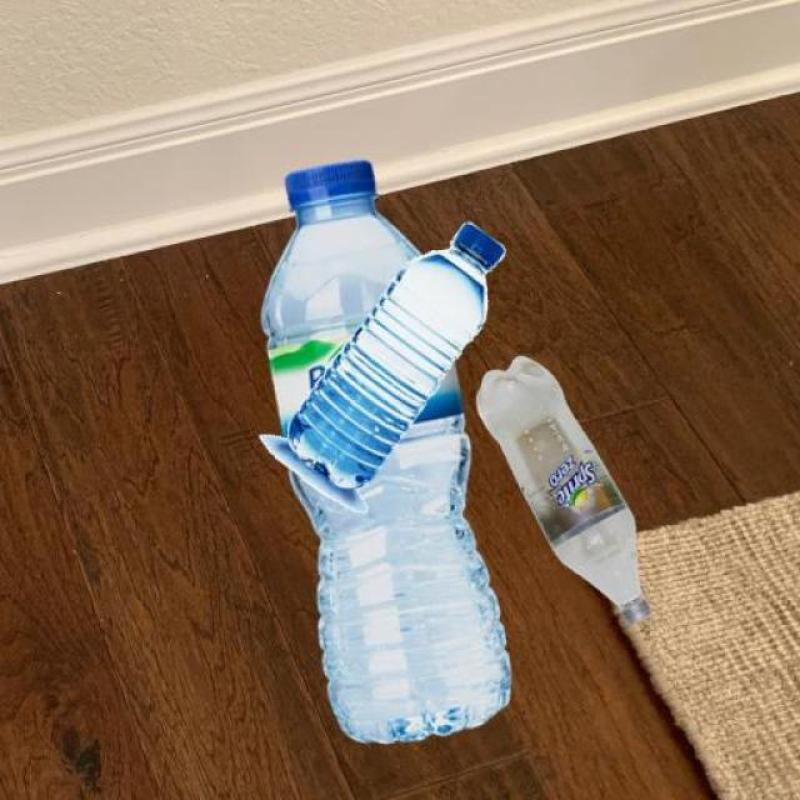botella: (260, 157, 515, 745), (285, 222, 505, 490), (476, 354, 650, 626)
